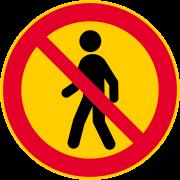Pedestrian Prohibited: (8, 7, 168, 168)
